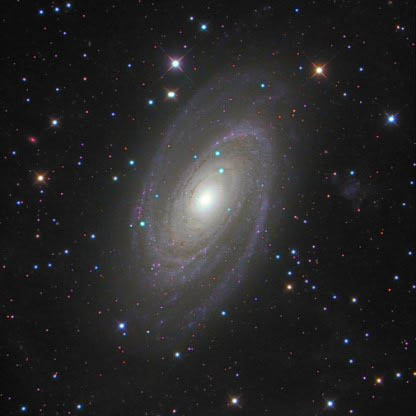Messier 81: (106, 41, 329, 341)
